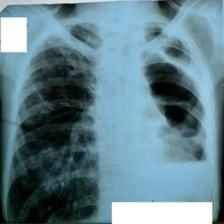tuberculosis: (3, 16, 222, 224)
